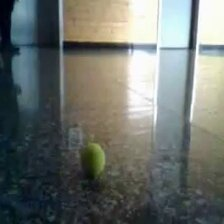tennis: (79, 143, 106, 179)
